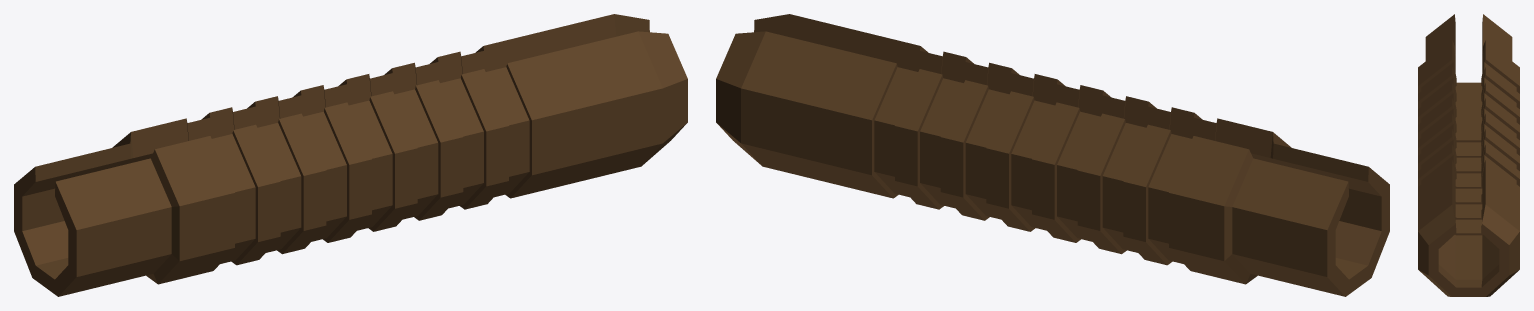
File: Shotgun3_02_2.fbx
The picture shows the model from 3 angles, left to right: view 1: azimuth 30°, elevation 25°; view 2: azimuth 150°, elevation 25°; view 3: azimuth 270°, elevation 25°; orthographic projection. The views are drawn at different scales.
Parts seen in each view (by area): view 1: Shotgun3_02_2; view 2: Shotgun3_02_2; view 3: Shotgun3_02_2.
Boxes of the visible parts, bbox=[...] form: Shotgun3_02_2: bbox=[14, 14, 687, 296]; Shotgun3_02_2: bbox=[716, 14, 1389, 296]; Shotgun3_02_2: bbox=[1418, 14, 1519, 296].
Bounding box in the file's own units: 0.2346 × 0.0485 × 0.0485.
